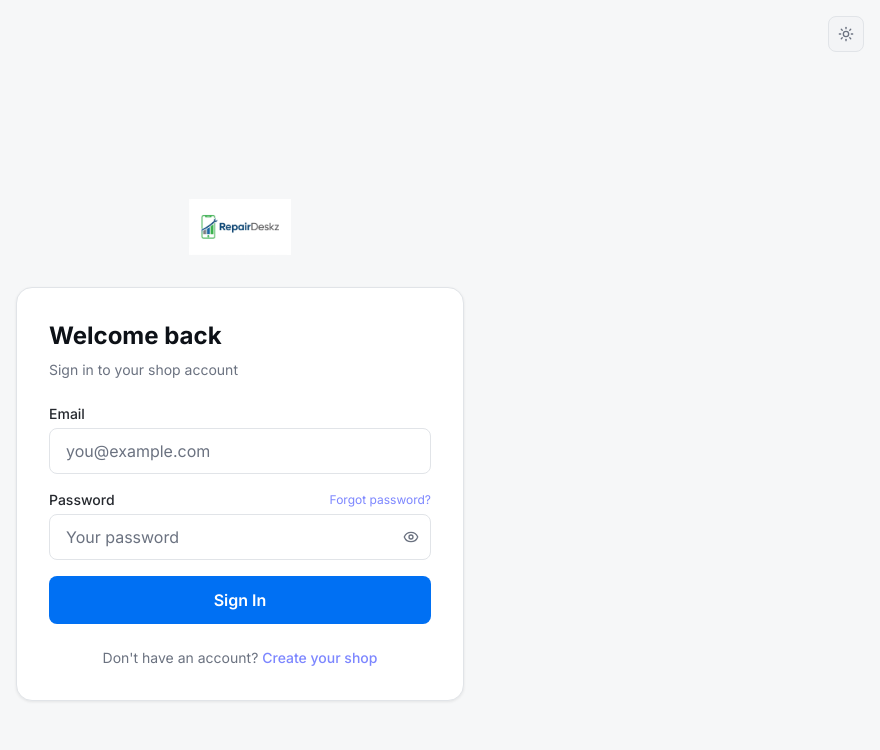
Test case: Login Page › shows error on failed login
Type "test@example.com" into the field with placeholder "you@example.com". click: (240, 451)
box: [49, 428, 431, 474]
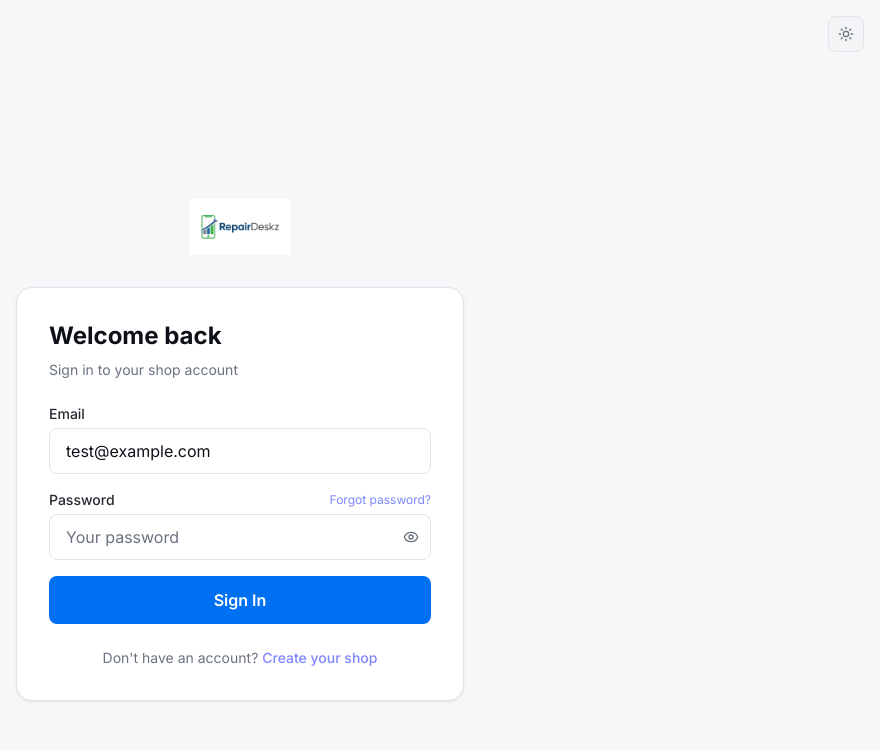
Type "wrongpassword" into the password field with placeholder "Your password". click: (240, 537)
box: [49, 514, 431, 560]
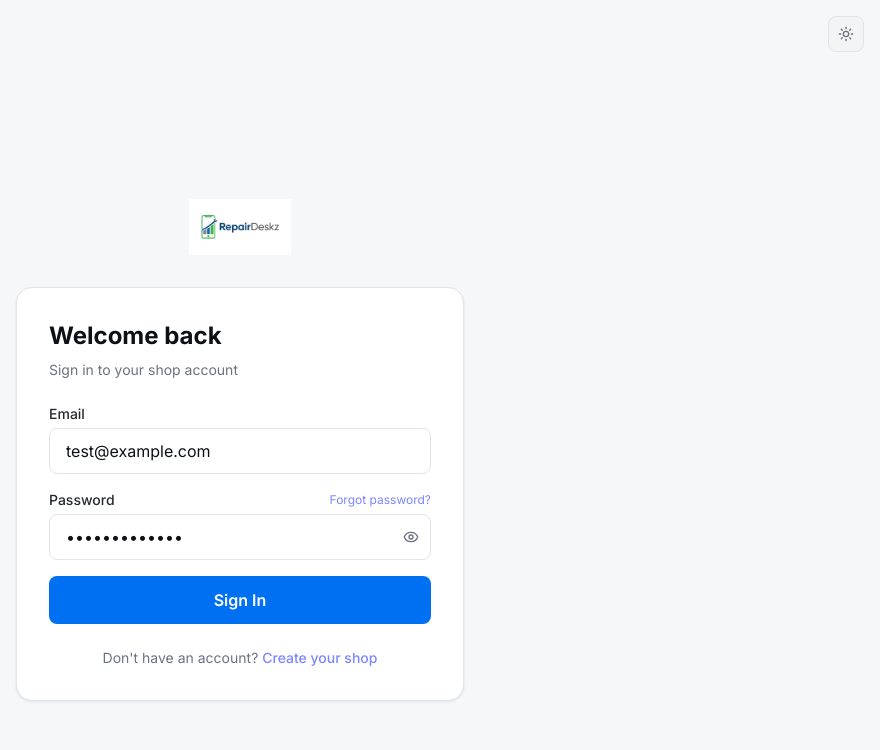
Click the button "Sign In". click: click(240, 600)
box: [49, 576, 431, 624]
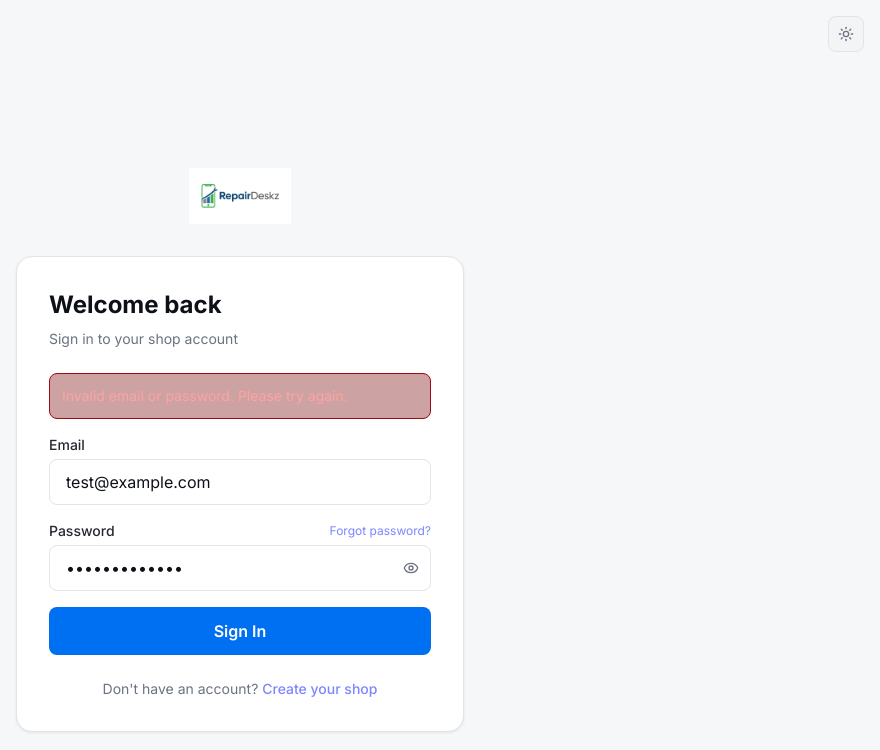
Result: the text "Invalid email or password. Please try again." is shown at [49, 373, 431, 419]
